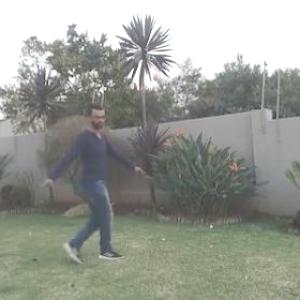land: (30, 89, 150, 286)
